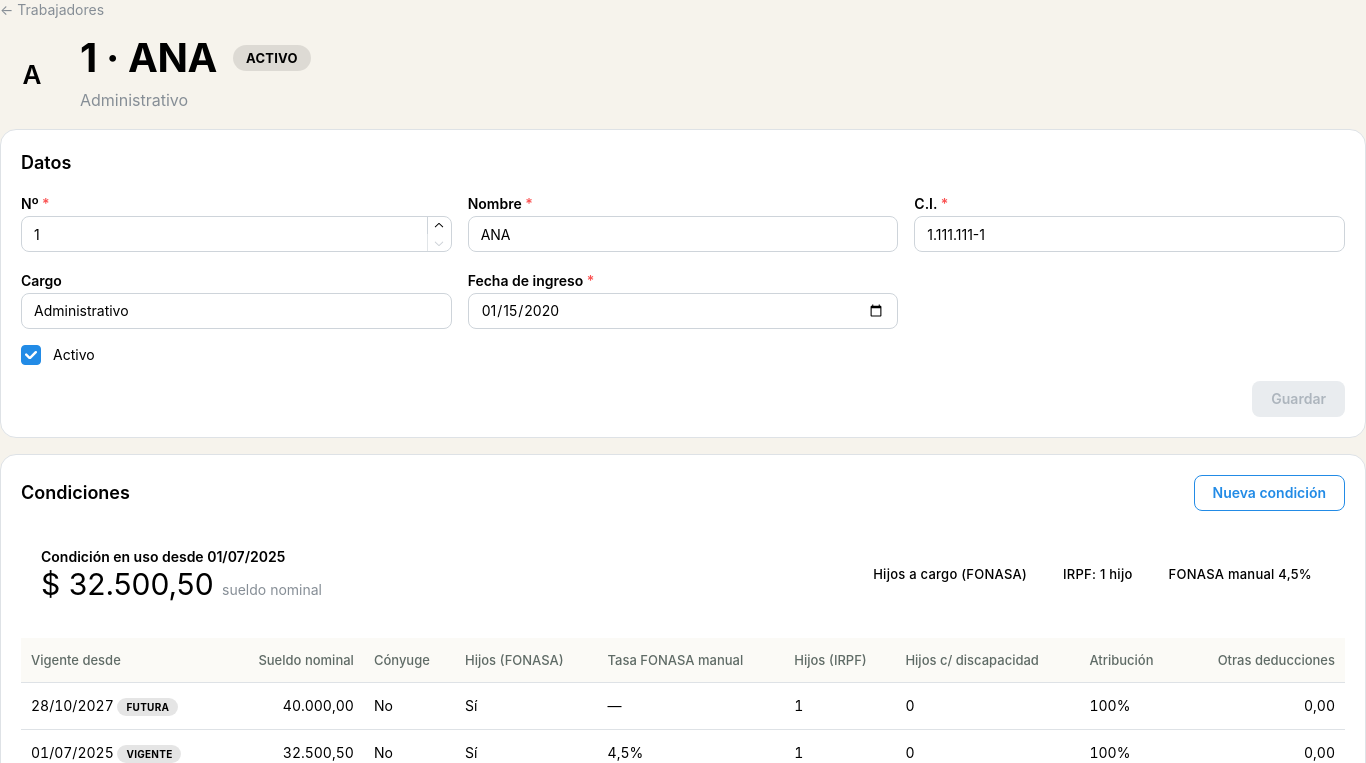
TrabajadorDetallePage › shows a duplicate worker number on the Nº field
Replace the text in the field labelled "Nº *" with "5": (236, 234) [21,216,452,252]
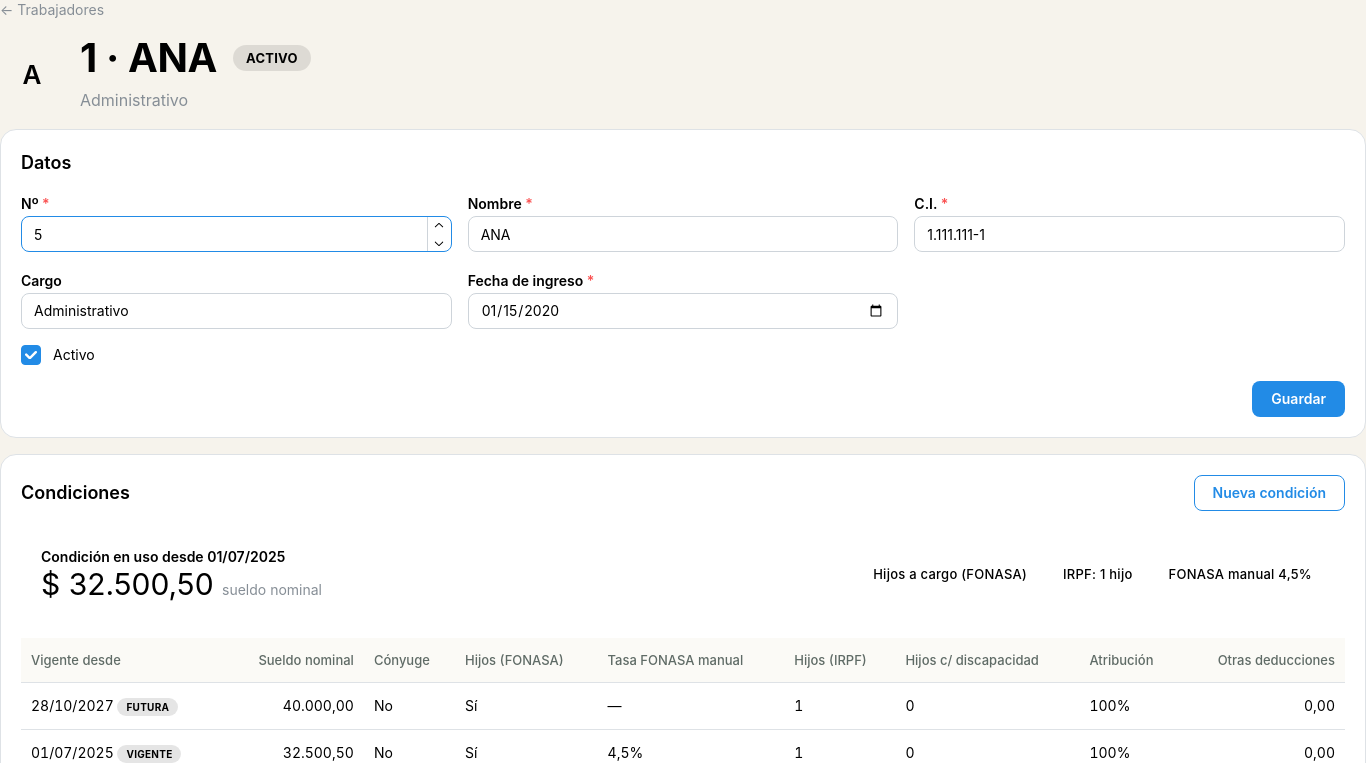
Click the button "Guardar": (1299, 399) [1252,381,1345,417]
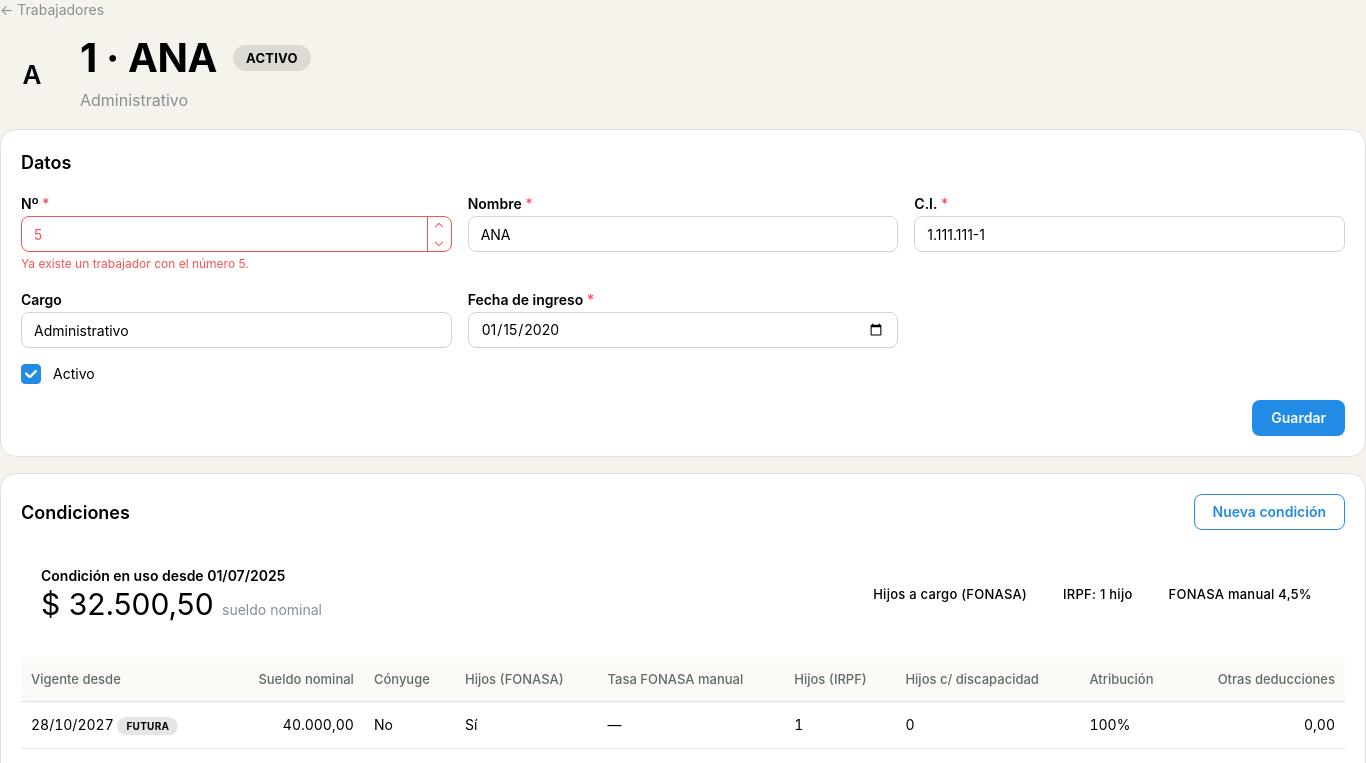
Expected: the text "Ya existe un trabajador con el número 5." is shown, [21,256,249,271]
